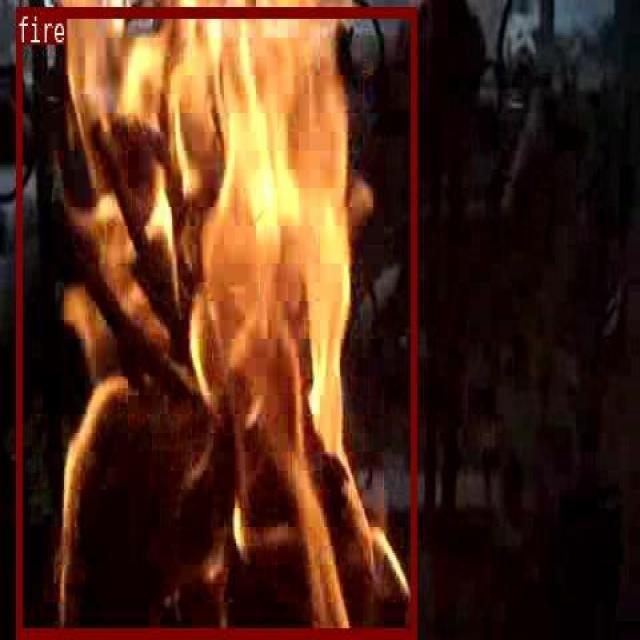fire: (15, 6, 415, 636)
